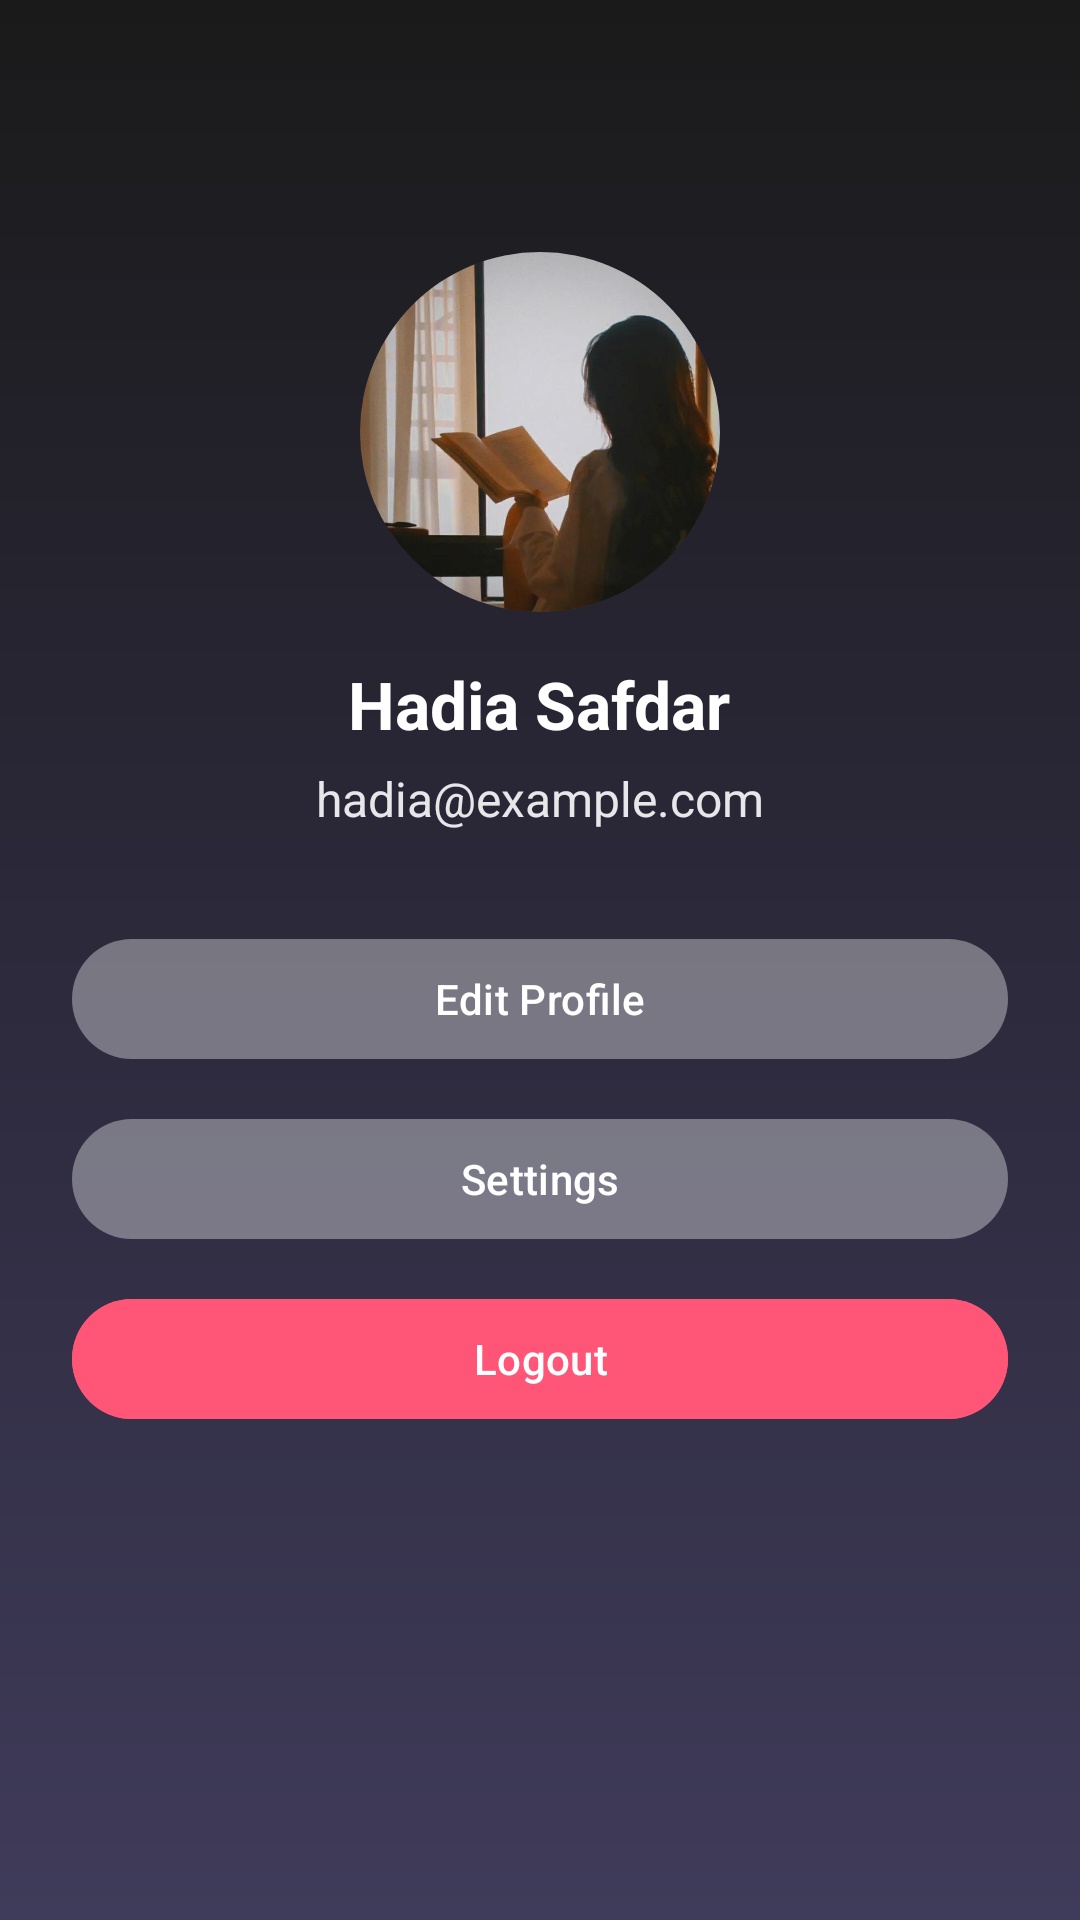

Locate icon controls on the screen. Image size 1080x1920, boxes as region(x1, y1, x2, y2).
profile: region(360, 252, 720, 612)
